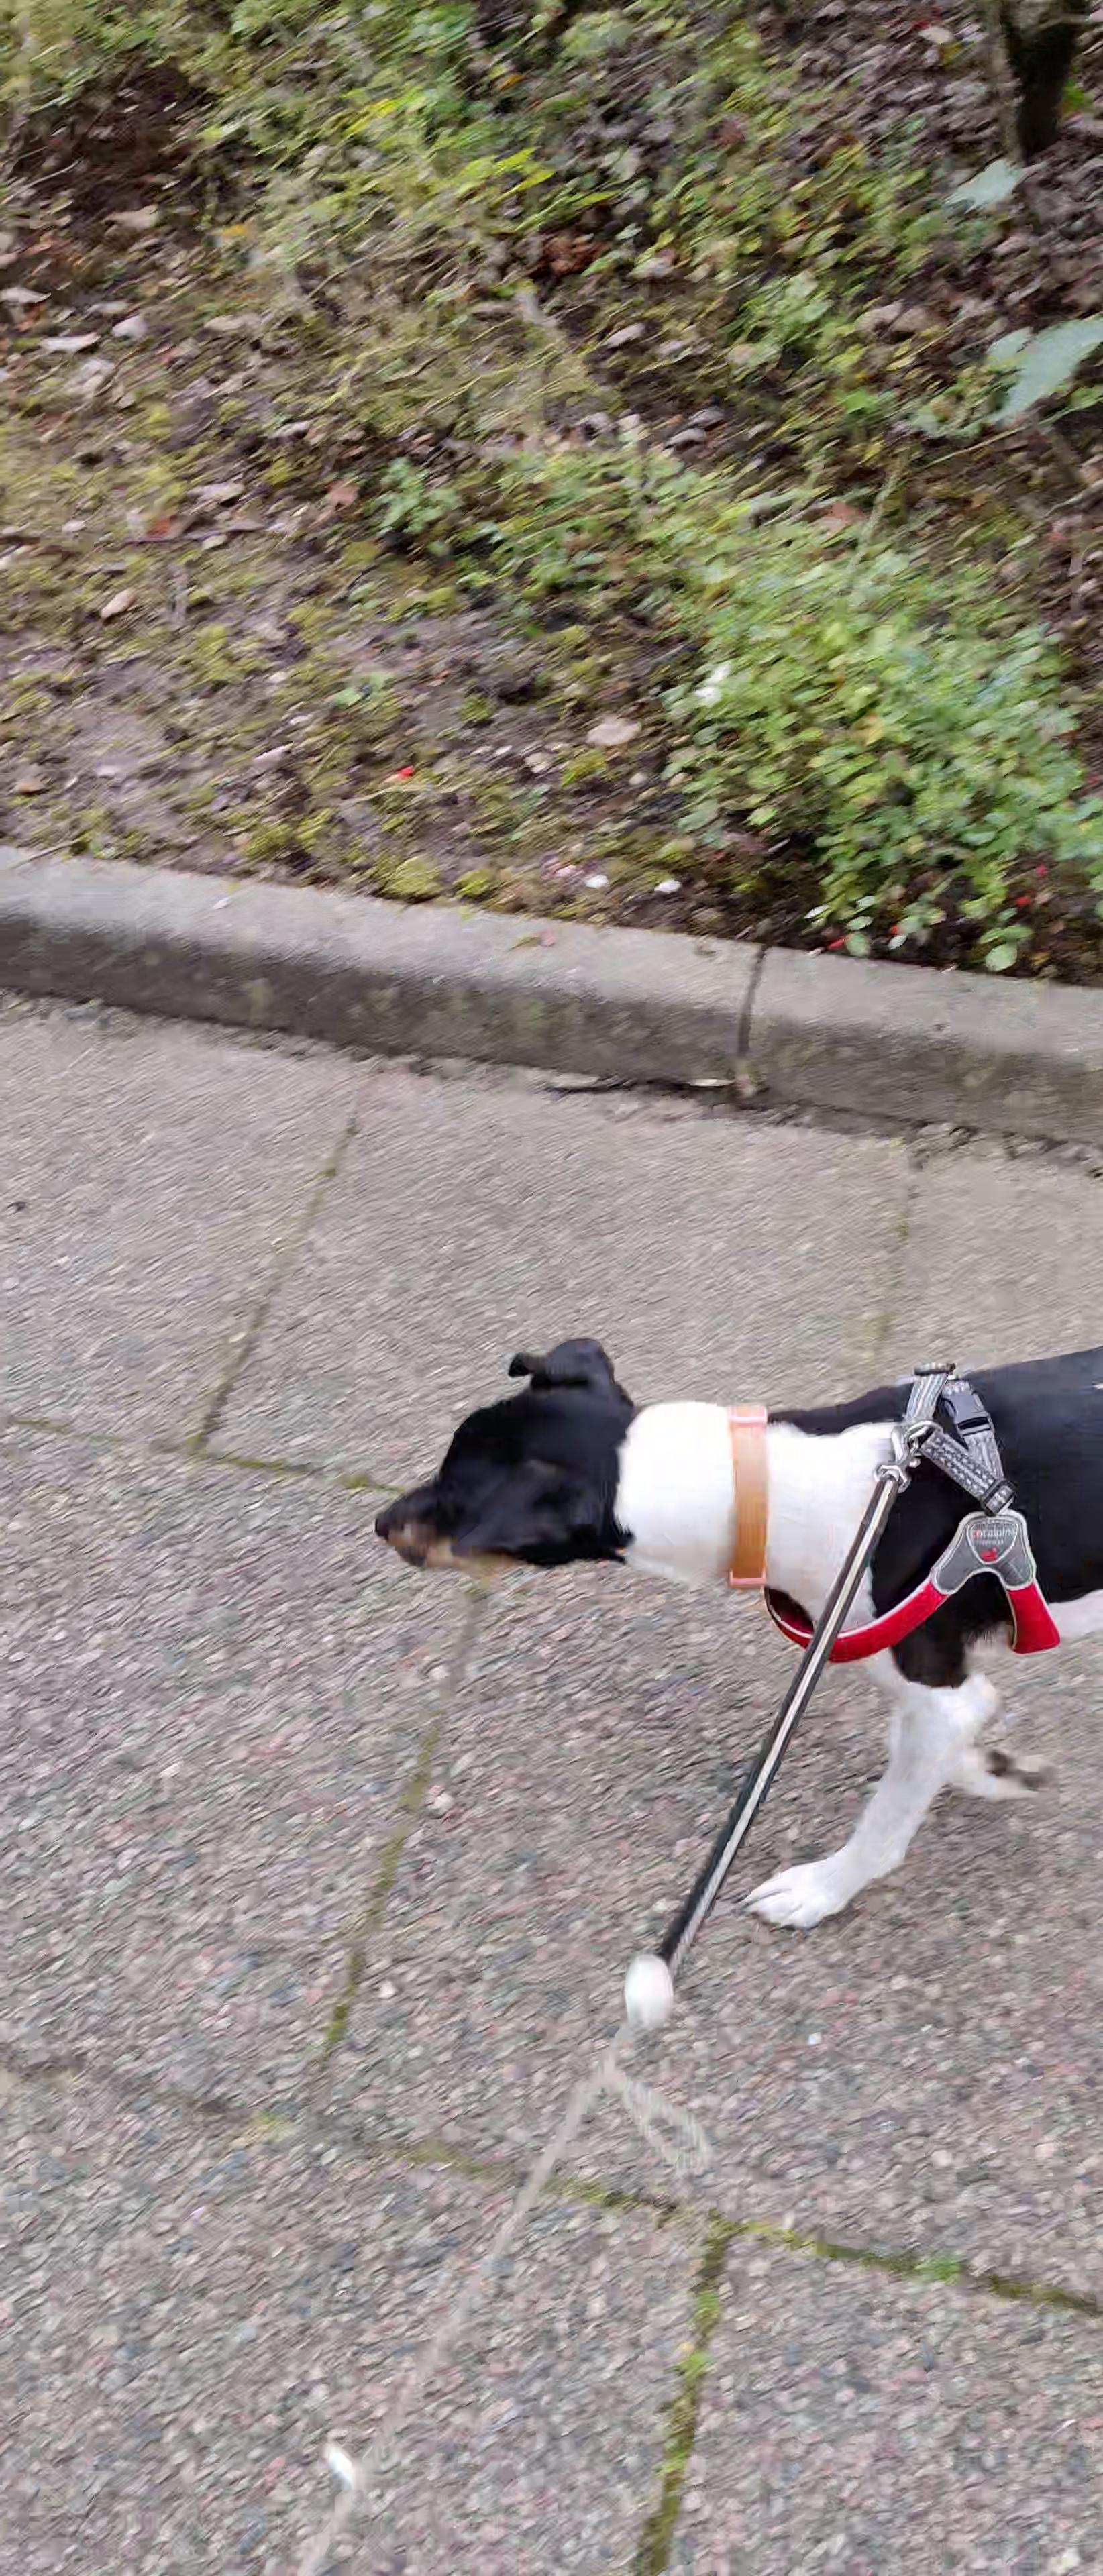Dog: (367, 1313, 1103, 1945)
